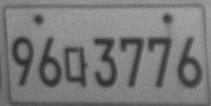3: (93, 37, 117, 86)
6: (177, 36, 202, 88), (38, 37, 62, 87)
7: (147, 36, 172, 88), (120, 37, 144, 87)
9: (11, 36, 34, 86)
다: (64, 45, 89, 87)
